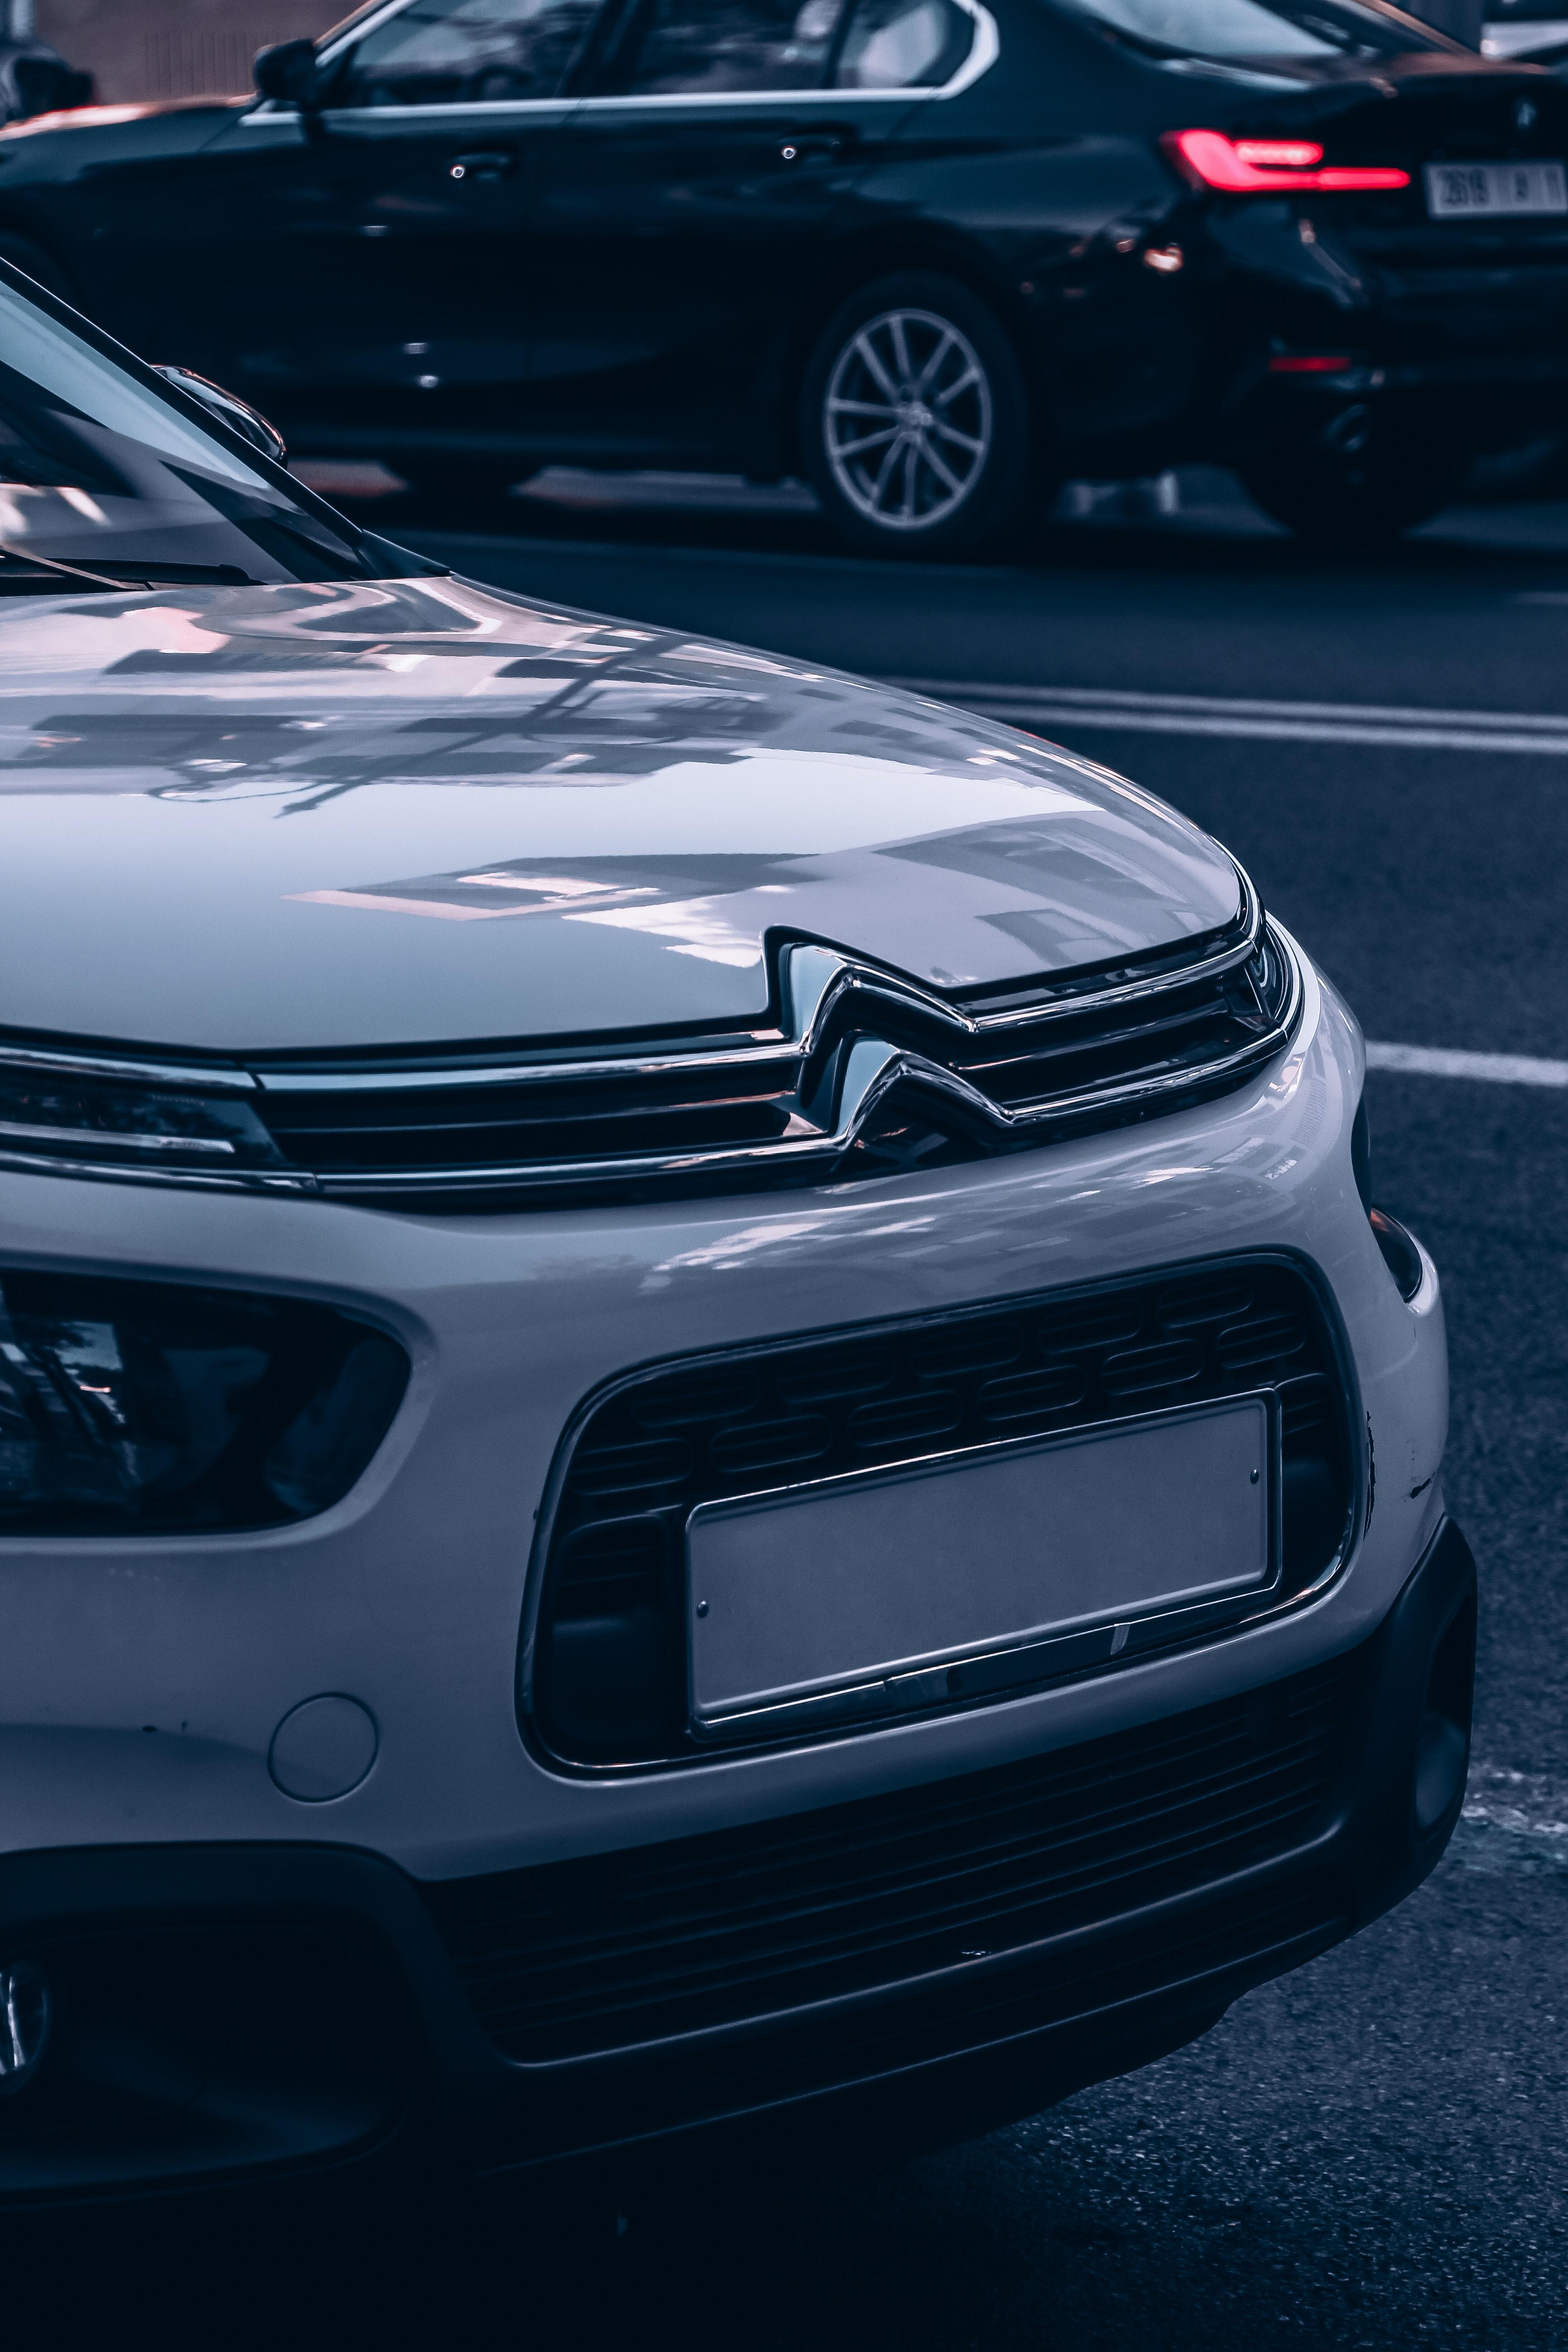Citroen: (714, 871, 1048, 1242)
